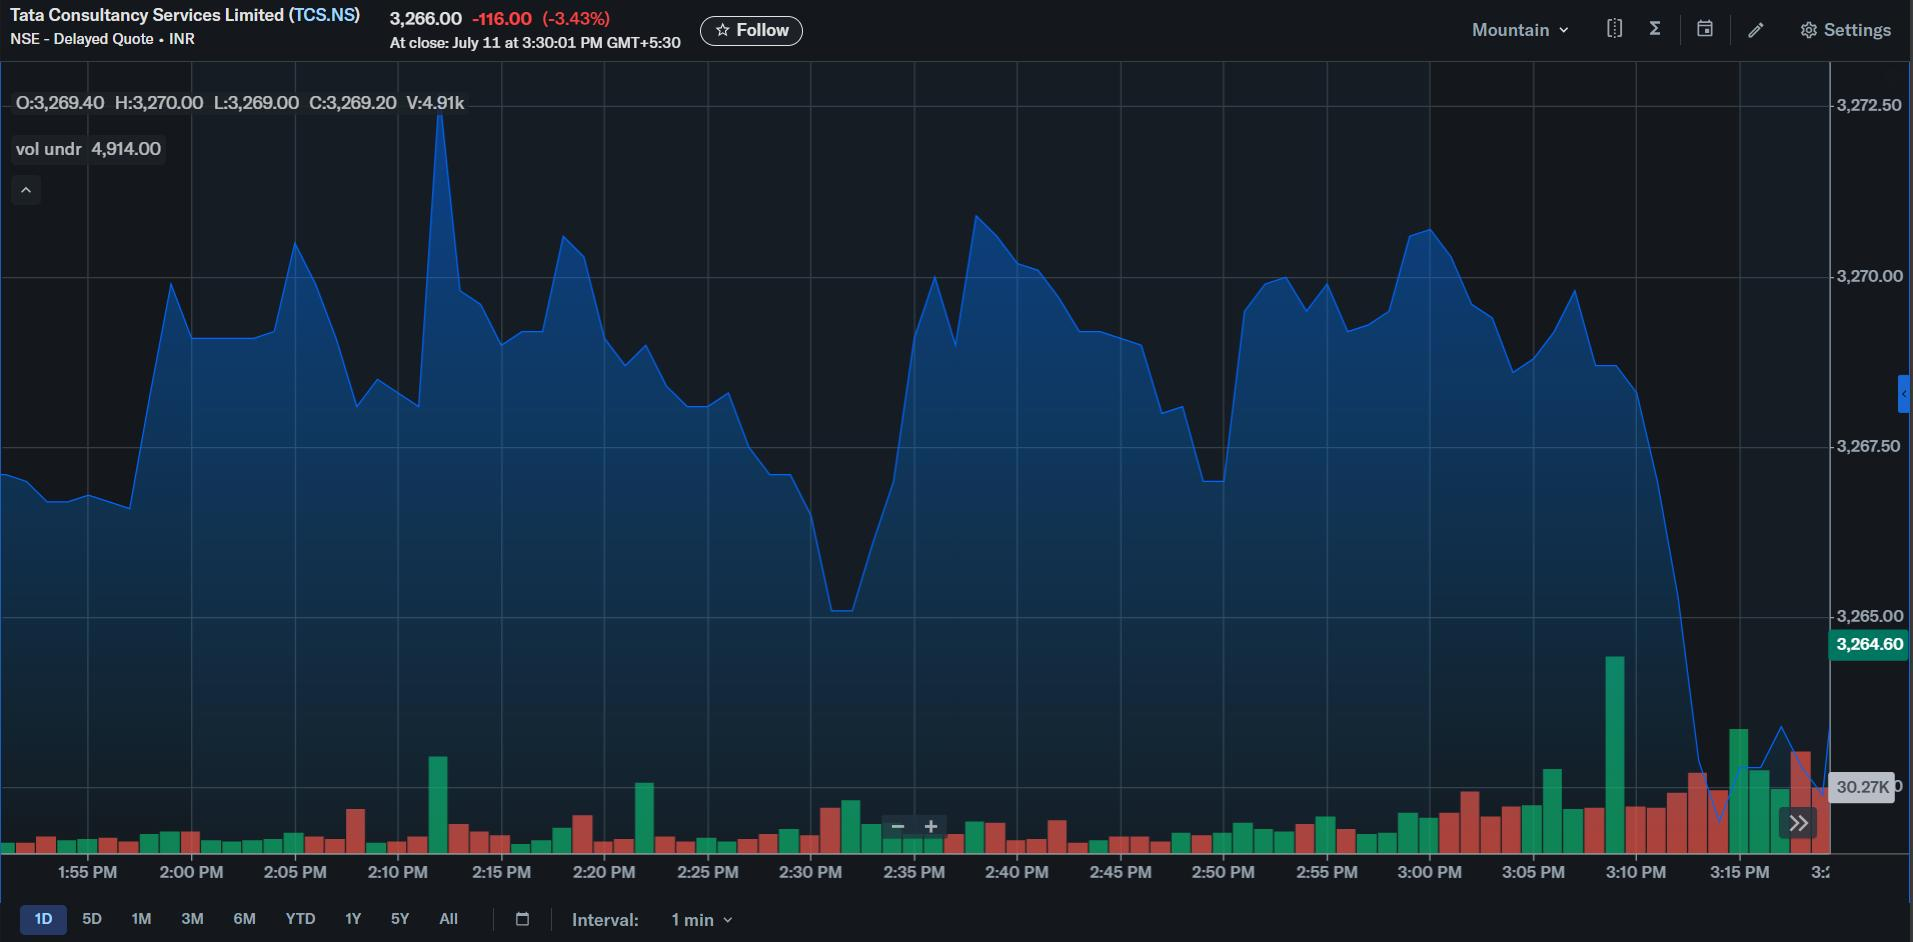Downtrend: (1424, 215, 1725, 761), (569, 228, 825, 652), (974, 199, 1225, 533)
Uptrend: (838, 234, 936, 647), (1215, 239, 1344, 545), (110, 272, 183, 549), (410, 112, 454, 447), (1516, 260, 1586, 415)
